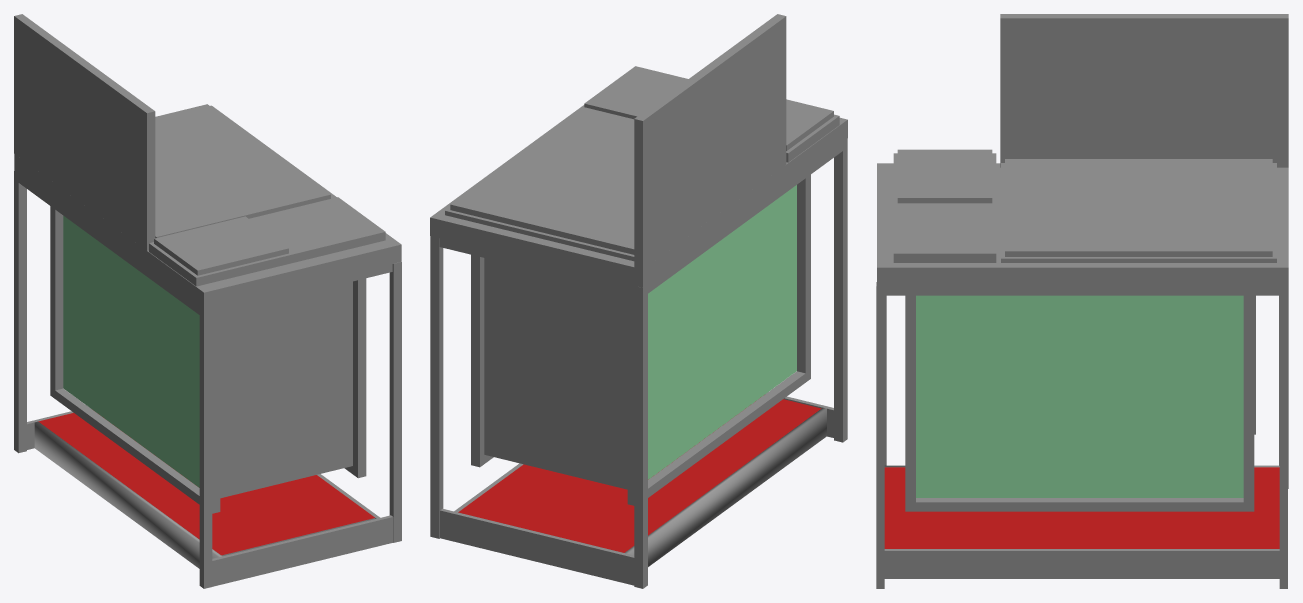
Rendered from Counter_8_Exhibition_Table_Display_2_Rectangle330_11.FBX.
3 renders of one model, left to right at view 1: azimuth 30°, elevation 25°; view 2: azimuth 150°, elevation 25°; view 3: azimuth 270°, elevation 25°, orthographic. The views are drawn at different scales.
Visible parts, largest first — view 1: Counter_8_Exhibition_Table_Display_2_Rectangle330_11, Object001; view 2: Counter_8_Exhibition_Table_Display_2_Rectangle330_11, Object001; view 3: Counter_8_Exhibition_Table_Display_2_Rectangle330_11, Object001, Counter_8_Exhibition_Table_Display_2_Rectangle330_11_design_.
Boxes of the visible parts, x1,y1,x2,y2 form: Counter_8_Exhibition_Table_Display_2_Rectangle330_11: [14, 14, 401, 588]; Object001: [63, 216, 199, 487]; Counter_8_Exhibition_Table_Display_2_Rectangle330_11: [430, 14, 847, 588]; Object001: [648, 185, 796, 479]; Counter_8_Exhibition_Table_Display_2_Rectangle330_11: [876, 14, 1288, 588]; Object001: [916, 295, 1243, 497]; Counter_8_Exhibition_Table_Display_2_Rectangle330_11_design_: [1000, 18, 1288, 167].
Size of the model in its own units: 60.06 by 126 by 100.
